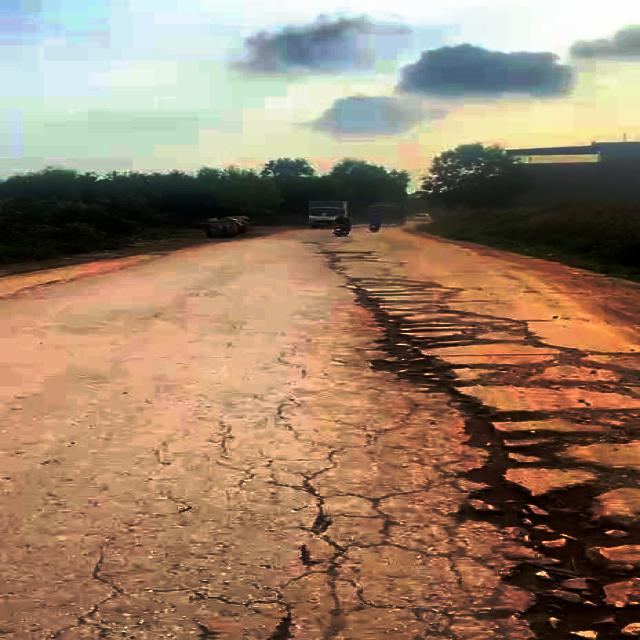pothole: (438, 414, 640, 639), (349, 287, 639, 414)
